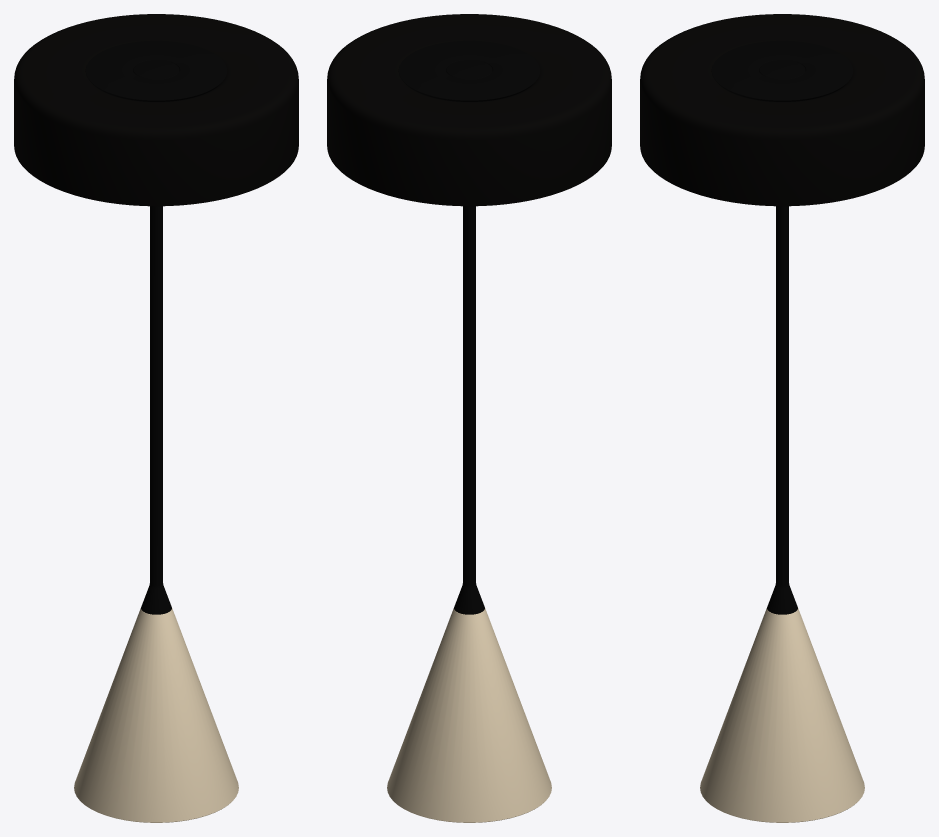
File: uploads_files_977742_Louise_Cognac.FBX
3 renders of one model, left to right at view 1: azimuth 30°, elevation 25°; view 2: azimuth 150°, elevation 25°; view 3: azimuth 270°, elevation 25°, orthographic.
Visible parts, largest first — view 1: Base; view 2: Base; view 3: Base.
Part boxes in pixels (x1,y1,x2,y2): Base: (14,14,298,822); Base: (327,14,611,822); Base: (640,14,924,822).
Bounding box in the file's own units: 430 × 1198 × 430.
